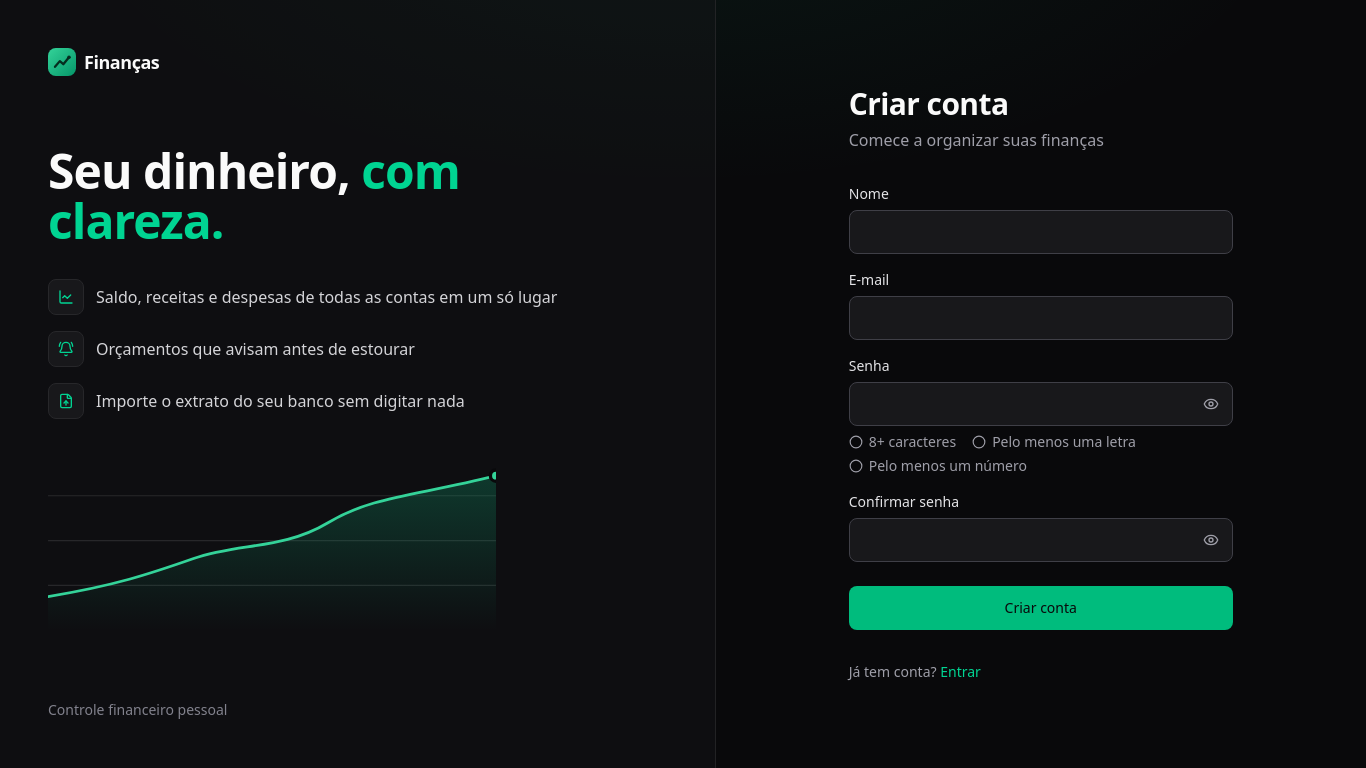
Test: RegisterPage › shows the server error on the e-mail field (409)
Type "Ana Souza" into the field labelled "Nome" at (1041, 232), box [849,210,1233,254]
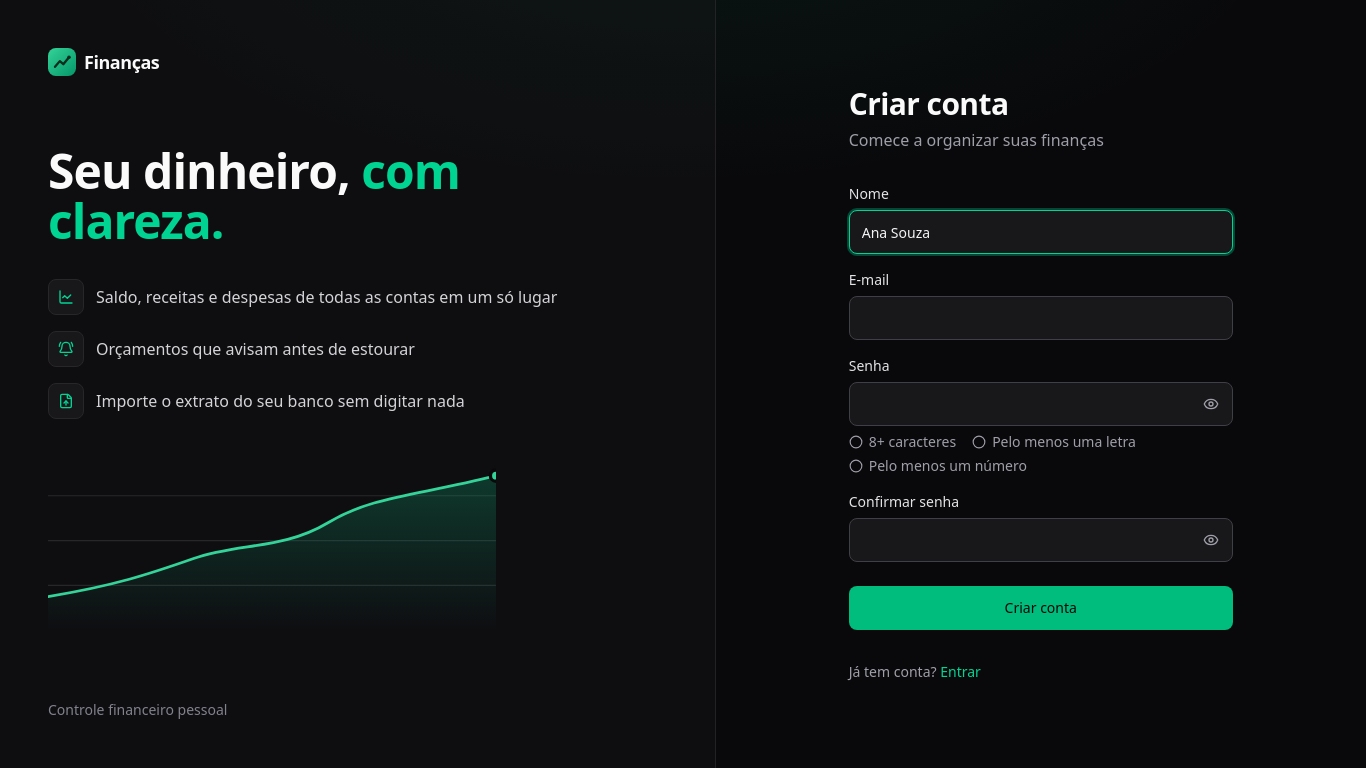
Type "ana@example.com" into the field labelled "E-mail" at (1041, 318), box [849,296,1233,340]
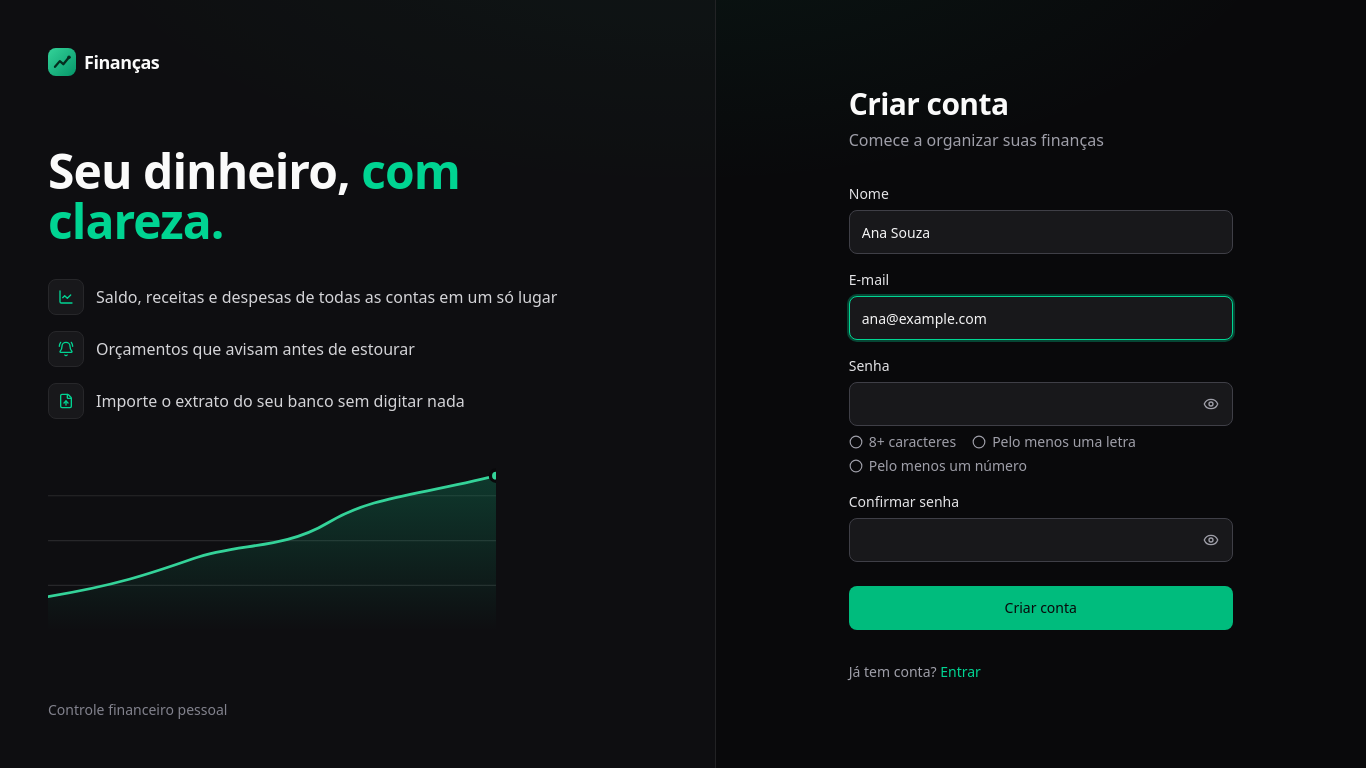
Type "senha123" into the password field labelled "Senha" at (1041, 404), box [849,382,1233,426]
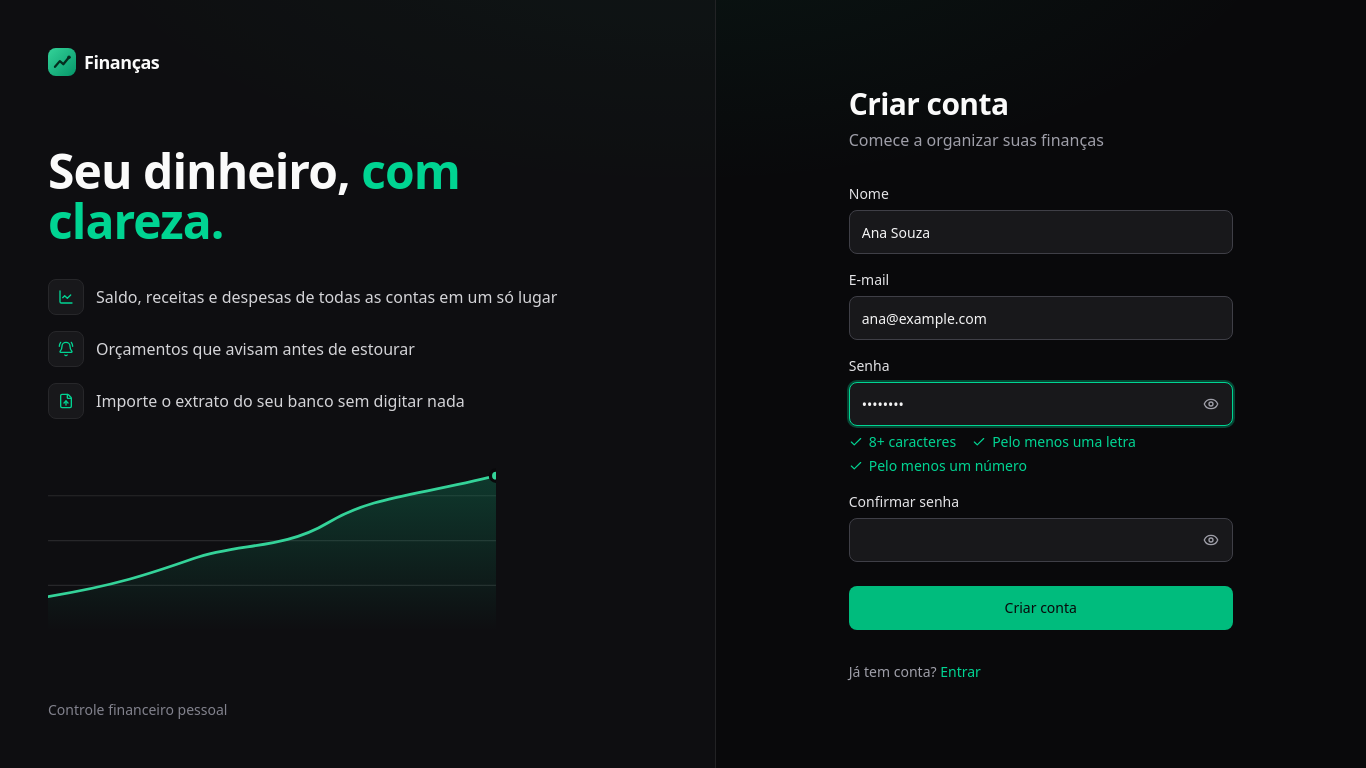
Type "senha123" into the password field labelled "Confirmar senha" at (1041, 540), box [849,518,1233,562]
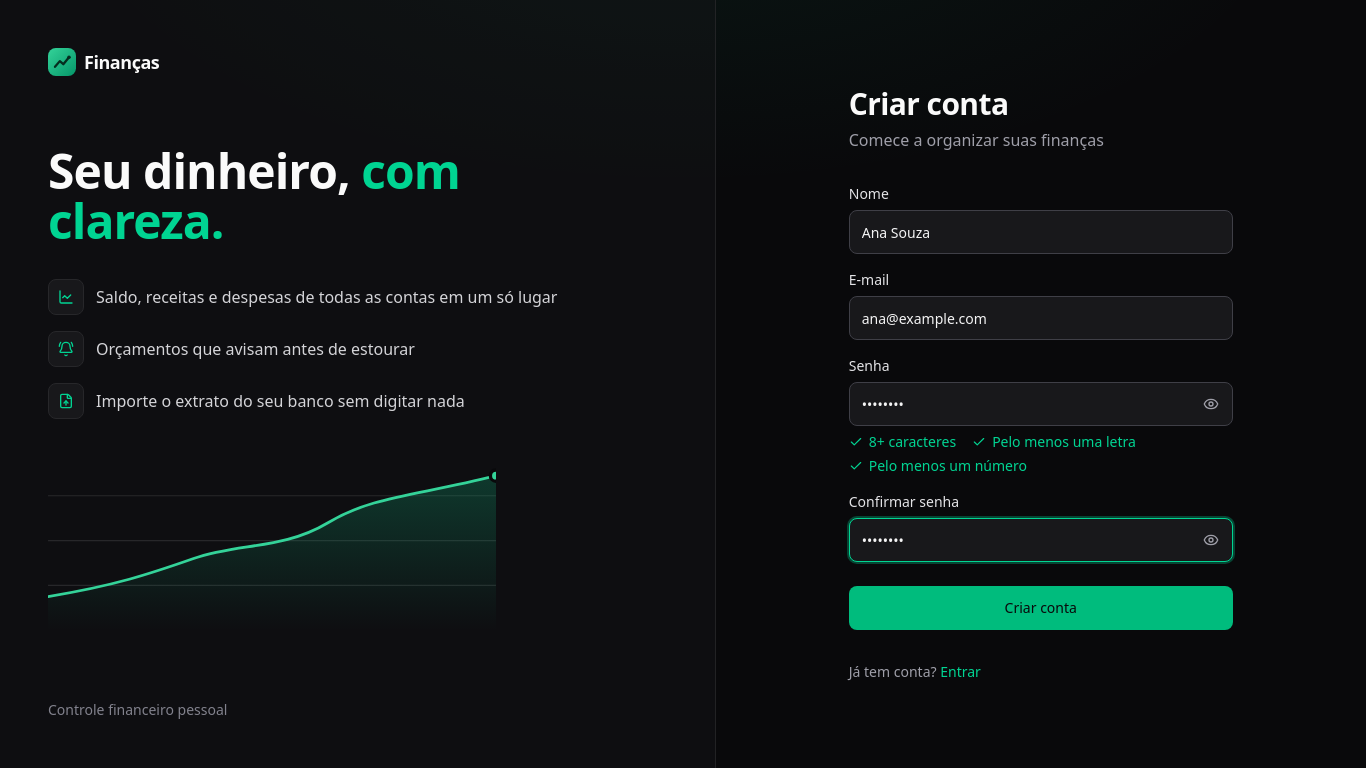
Click the button "Criar conta" at (1041, 608), box [849,586,1233,630]
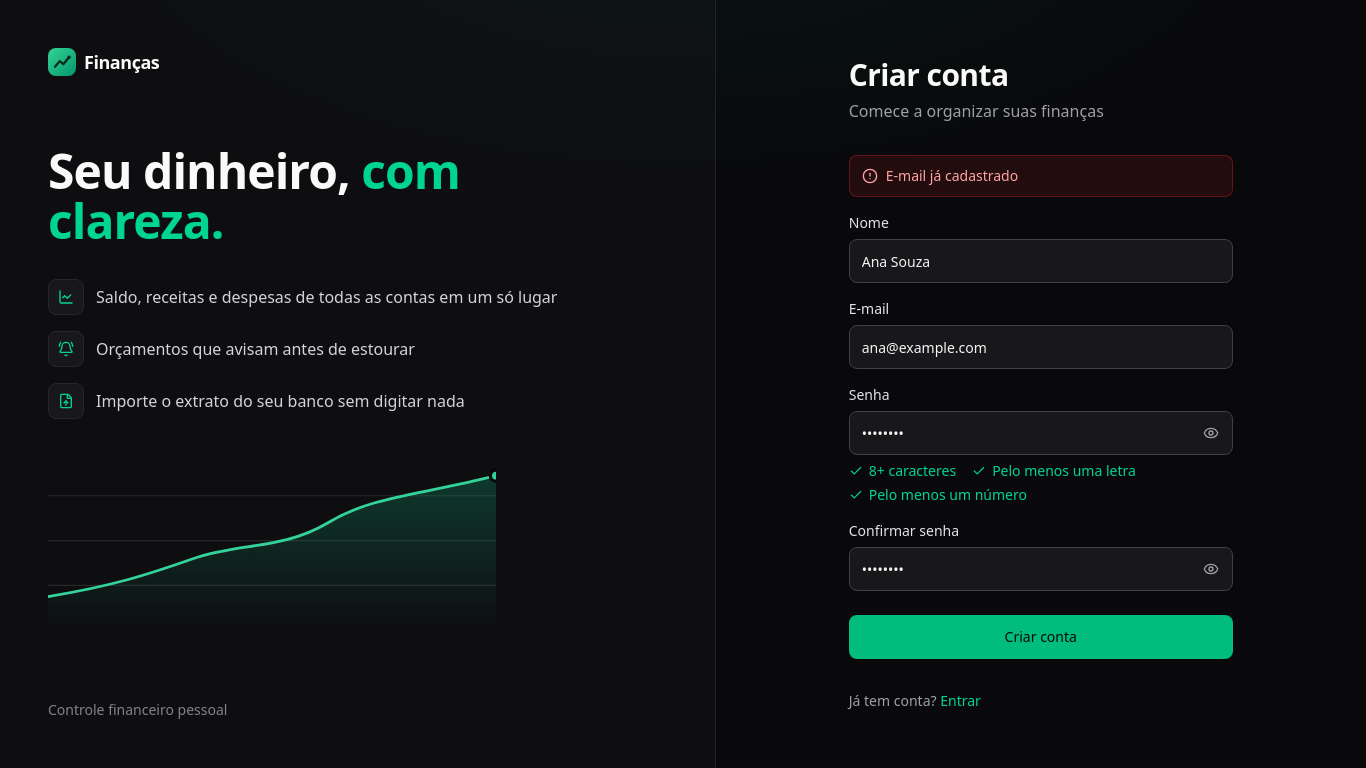
Now the message reads "E-mail já cadastrado", box [886,166,1018,185]
